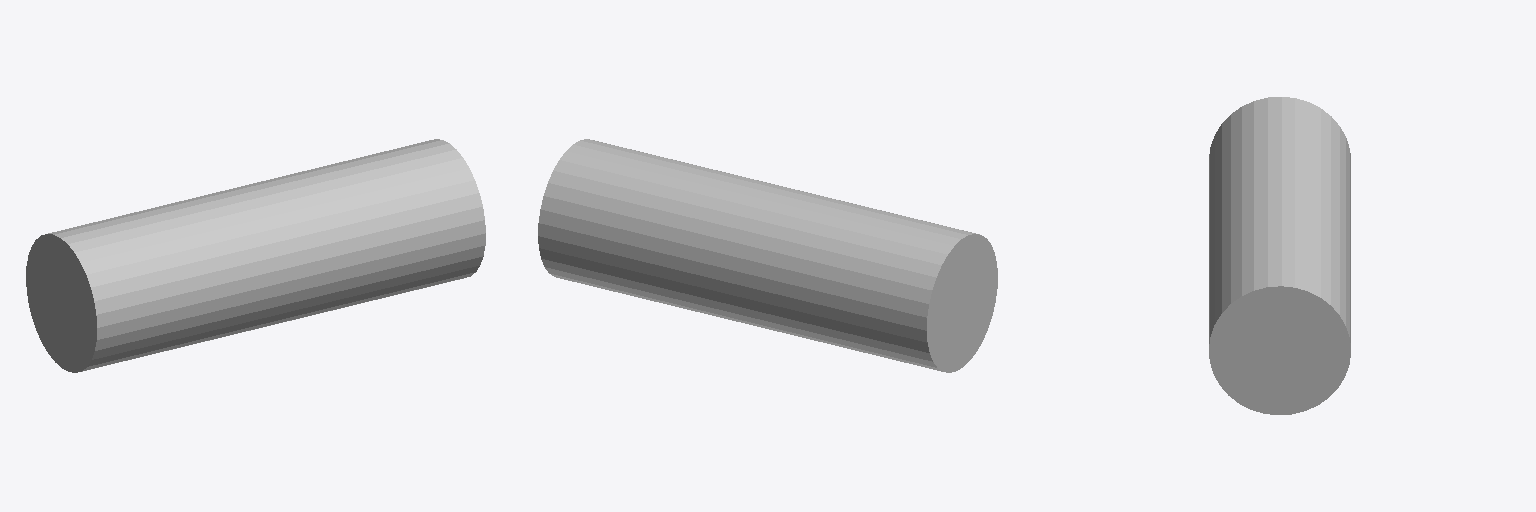
The model's file is ShockBL.OBJ.
3 views of the same model, side by side, from view 1: azimuth 30°, elevation 25°; view 2: azimuth 150°, elevation 25°; view 3: azimuth 270°, elevation 25° (orthographic).
Parts seen in each view (by area): view 1: ShockBL; view 2: ShockBL; view 3: ShockBL.
Part boxes in pixels (bbox=[...]): ShockBL: bbox=[26, 139, 485, 372]; ShockBL: bbox=[538, 139, 997, 372]; ShockBL: bbox=[1209, 97, 1350, 414].
Size of the model in its own units: 0.4959 by 0.1575 by 0.1575.